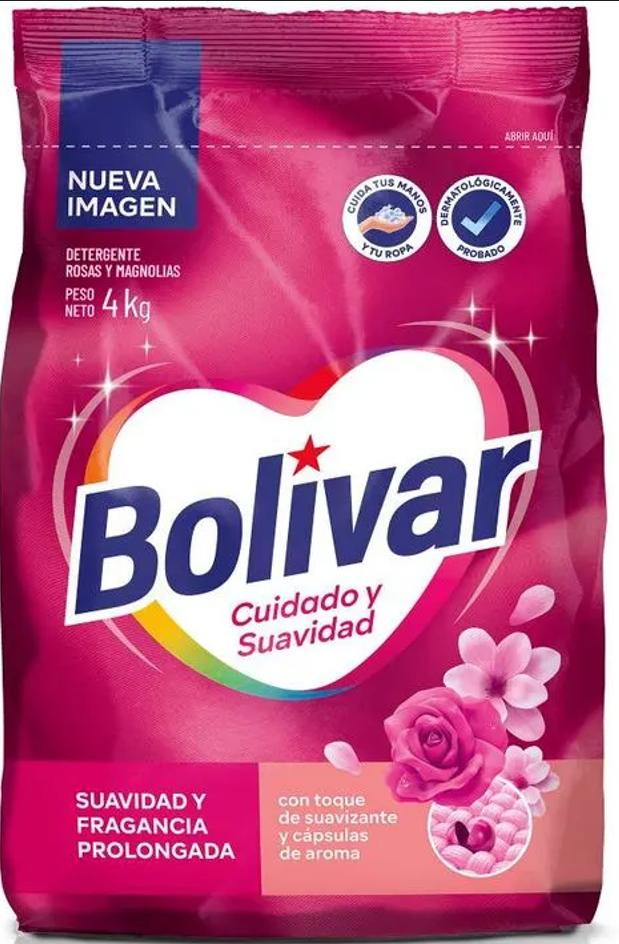brand: (48, 422, 559, 640)
extra_detail: (225, 572, 402, 662)
net_weight: (101, 285, 159, 325)
